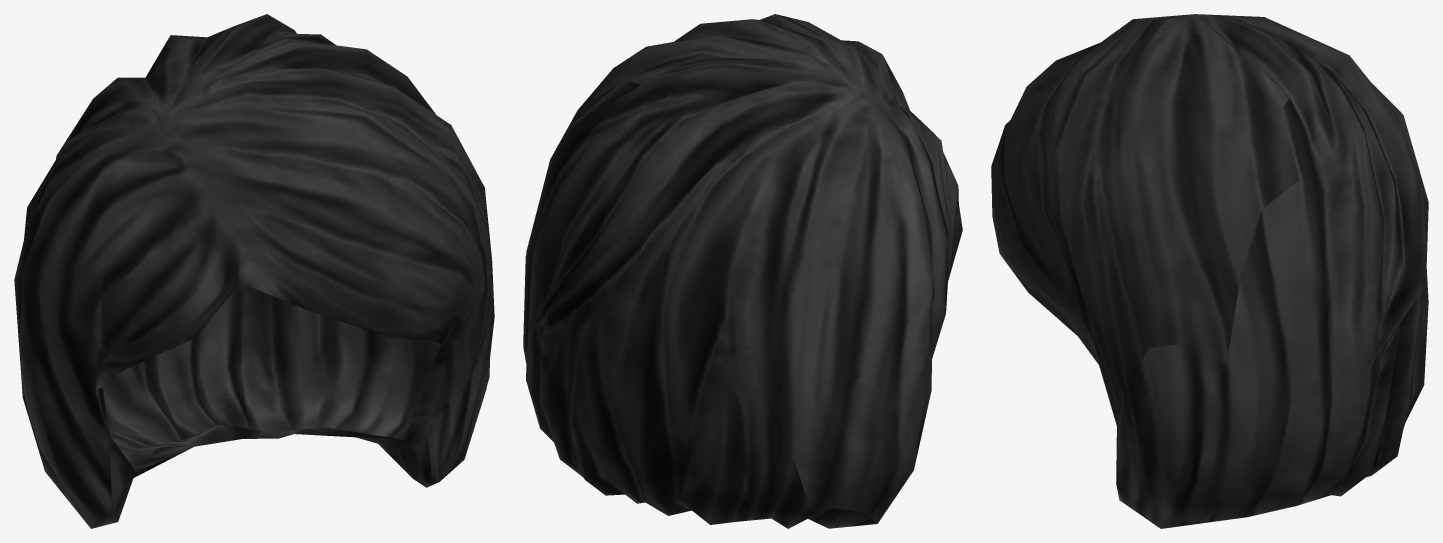
File: AF_M_hair_G_05.fbx
The picture shows the model from 3 angles, left to right: view 1: azimuth 30°, elevation 25°; view 2: azimuth 150°, elevation 25°; view 3: azimuth 270°, elevation 25°; orthographic projection. The views are drawn at different scales.
Visible parts, largest first — view 1: AF_M_hair_G_05; view 2: AF_M_hair_G_05; view 3: AF_M_hair_G_05.
Boxes of the visible parts, x1=… form: AF_M_hair_G_05: x1=14, y1=14, x2=494, y2=528; AF_M_hair_G_05: x1=523, y1=14, x2=962, y2=528; AF_M_hair_G_05: x1=991, y1=14, x2=1428, y2=528.
Bounding box in the file's own units: 849 × 858 × 785.
